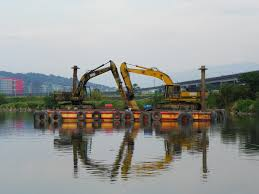excavator: (119, 58, 209, 112), (53, 61, 122, 104)
